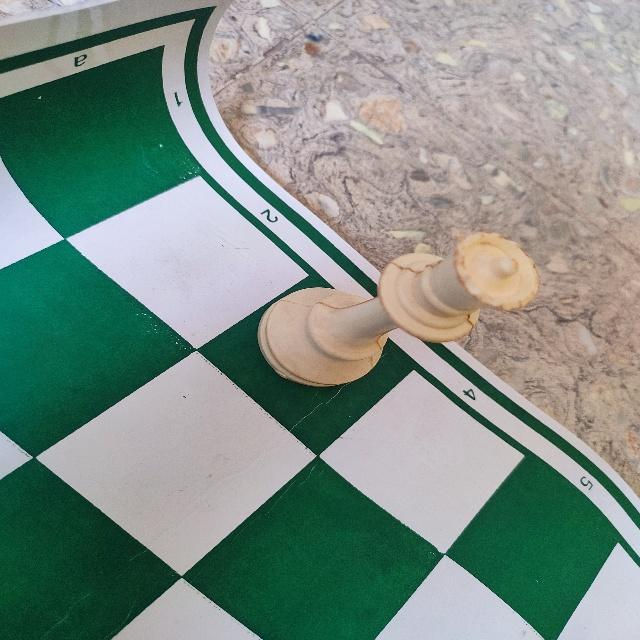Queen: (246, 227, 545, 401)
